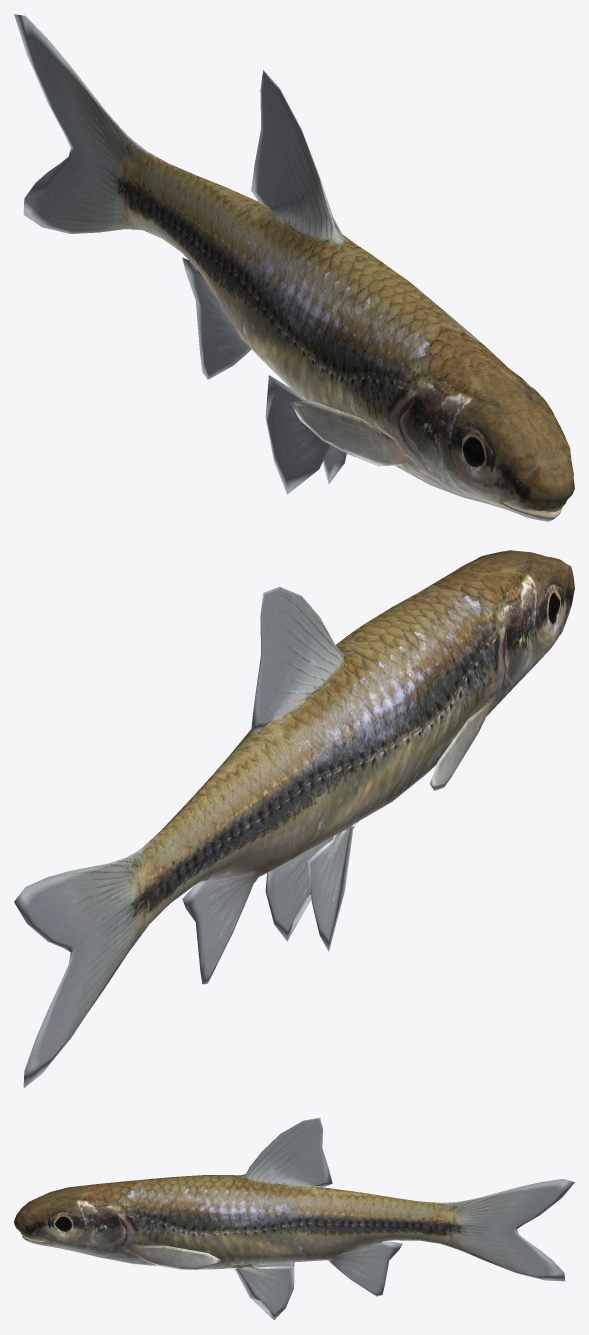
File: Hybopsis.glb
3 views of the same model, one above another, from view 1: azimuth 30°, elevation 25°; view 2: azimuth 150°, elevation 25°; view 3: azimuth 270°, elevation 25° (orthographic). The views are drawn at different scales.
Parts seen in each view (by area): view 1: pasted__polySurface1; view 2: pasted__polySurface1; view 3: pasted__polySurface1.
Part boxes in pixels (left/top/right/bottom): pasted__polySurface1: left=14, top=14, right=574, bottom=521; pasted__polySurface1: left=14, top=550, right=574, bottom=1087; pasted__polySurface1: left=14, top=1117, right=574, bottom=1320.
Size of the model in its own units: 0.0307 by 0.0813 by 0.209.
Materials: 1 (1 with a texture image).
